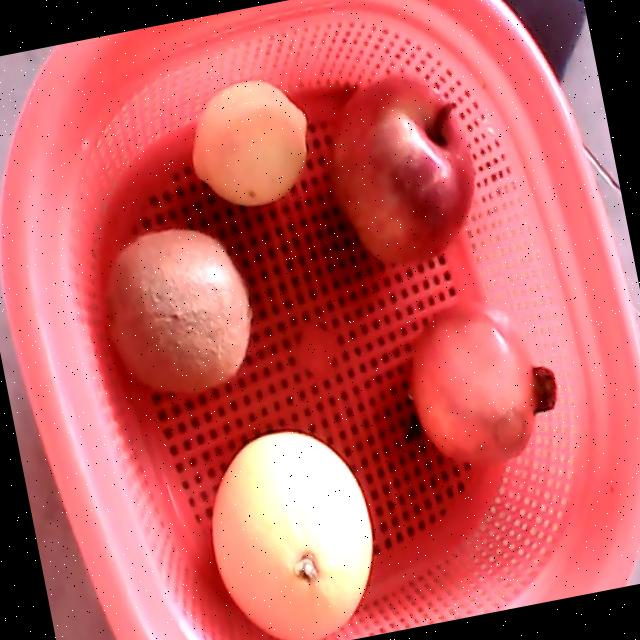apple: (330, 77, 476, 265)
kiwi: (102, 229, 251, 394)
lemon: (192, 81, 307, 204)
orange: (213, 432, 374, 640)
pomegranate: (406, 299, 557, 467)
